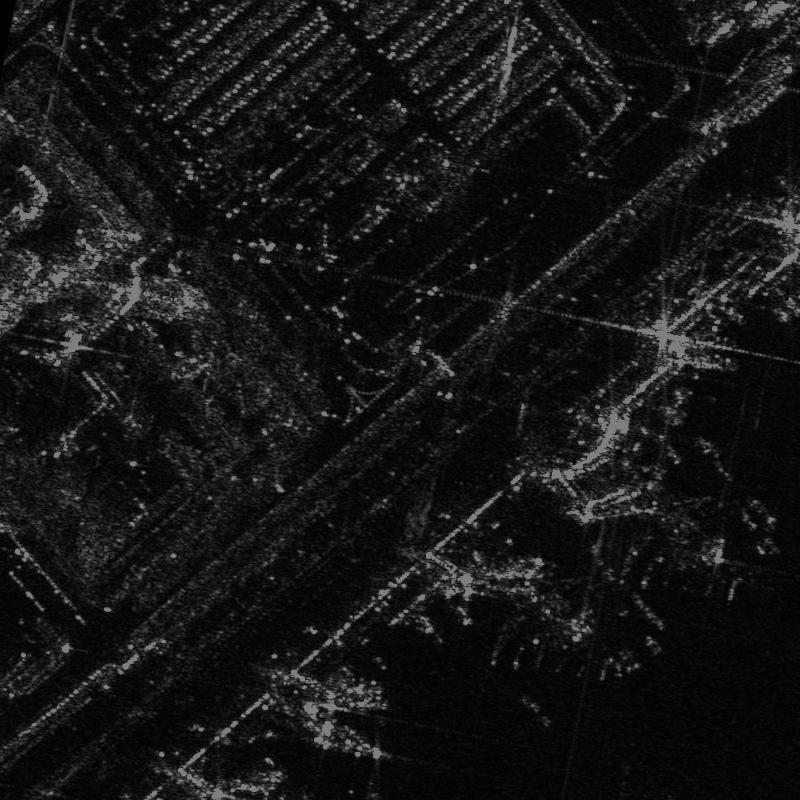Boeing737: (485, 575, 645, 686), (624, 488, 772, 597)
